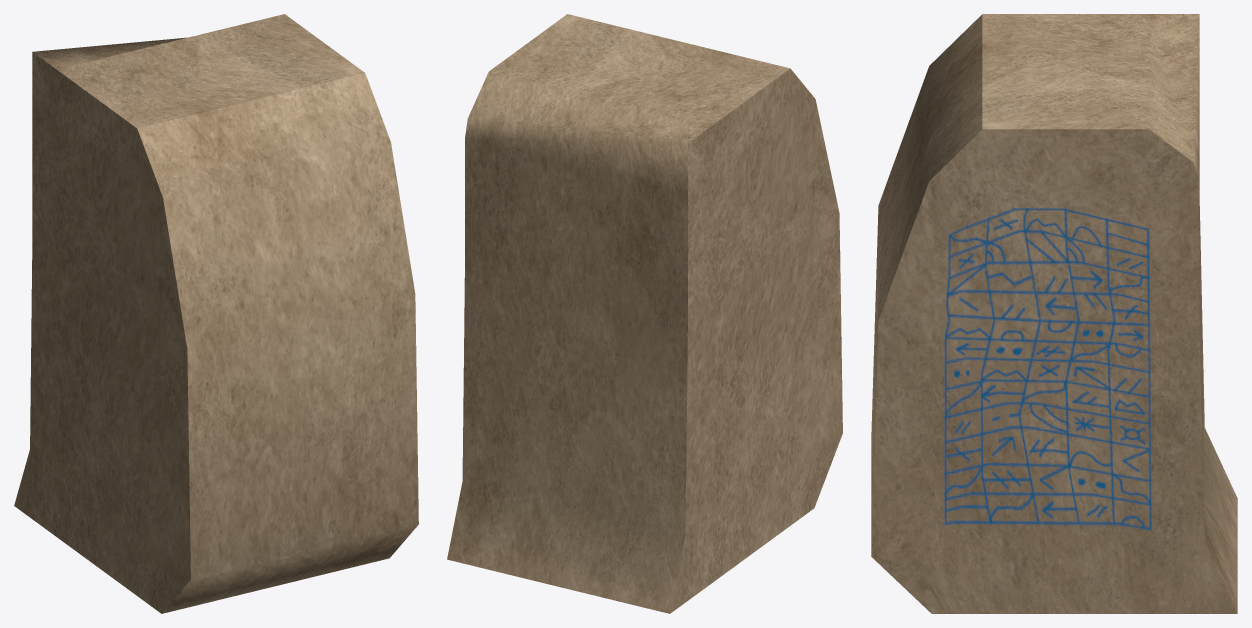
The model's file is Rock_writings_big.fbx.
3 renders of one model, left to right at view 1: azimuth 30°, elevation 25°; view 2: azimuth 150°, elevation 25°; view 3: azimuth 270°, elevation 25°, orthographic. The views are drawn at different scales.
Visible parts, largest first — view 1: pCube2; view 2: pCube2; view 3: pCube2.
Part boxes in pixels (left/top/right/bottom): pCube2: left=14, top=14, right=418, bottom=613; pCube2: left=447, top=14, right=842, bottom=613; pCube2: left=871, top=14, right=1237, bottom=613.
Size of the model in its own units: 4.2 by 8.24 by 5.65.
1 material, 1 textured.
